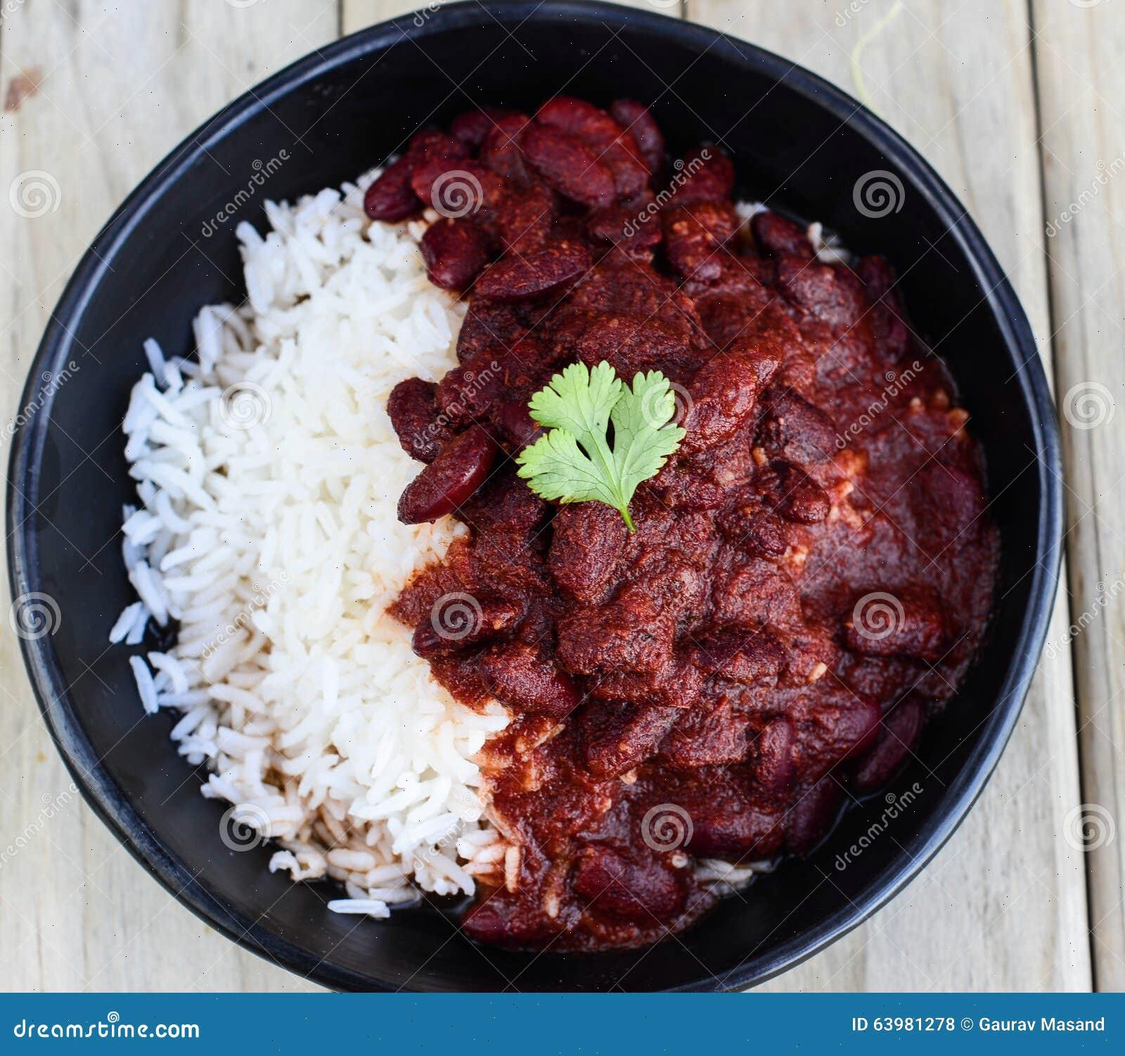rajma: (525, 112, 942, 884)
rice: (134, 258, 424, 900)
